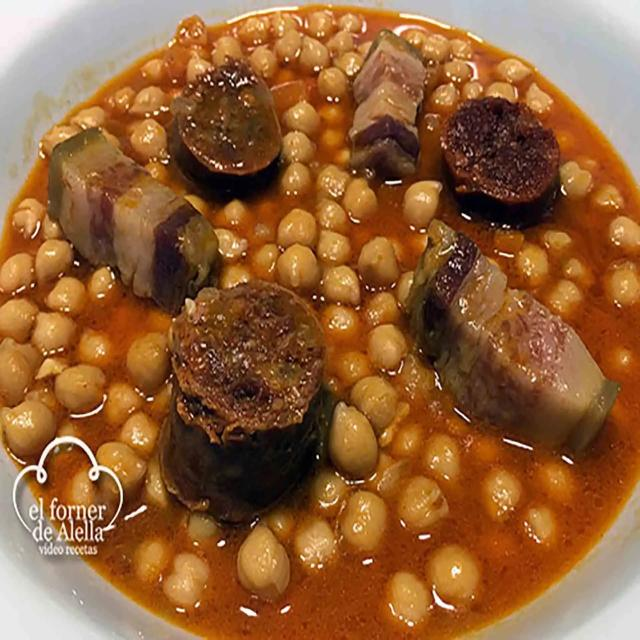garbanzos: (17, 28, 632, 618)
